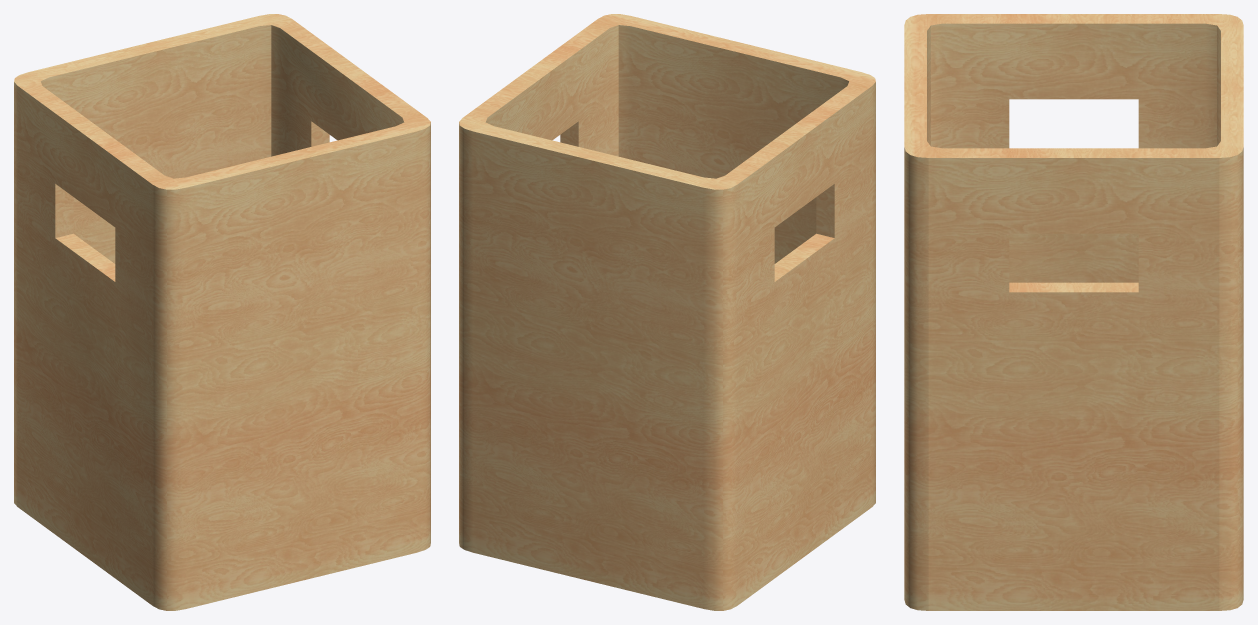
File: trash bin.fbx
The picture shows the model from 3 angles, left to right: view 1: azimuth 30°, elevation 25°; view 2: azimuth 150°, elevation 25°; view 3: azimuth 270°, elevation 25°; orthographic projection. The views are drawn at different scales.
Parts seen in each view (by area): view 1: trash bin; view 2: trash bin; view 3: trash bin.
Part boxes in pixels (x1=…): trash bin: x1=14, y1=14, x2=430, y2=610; trash bin: x1=459, y1=14, x2=875, y2=610; trash bin: x1=904, y1=14, x2=1243, y2=610.
Bounding box in the file's own units: 6.38 × 9.36 × 6.36.
1 material, 1 textured.
